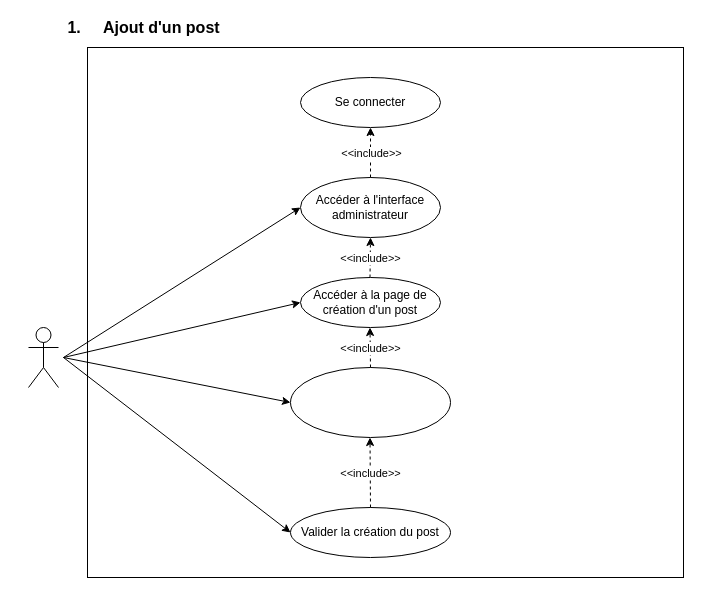
Some shapes in this 701 by 595 pixel diagram are drawn without their labels. The centre of each missing label's shape, as x and y in pixels:
"Remplir les champs de formulaire de création d'un post" belongs at (370,402).
"Utilisateur" belongs at (43,357).
